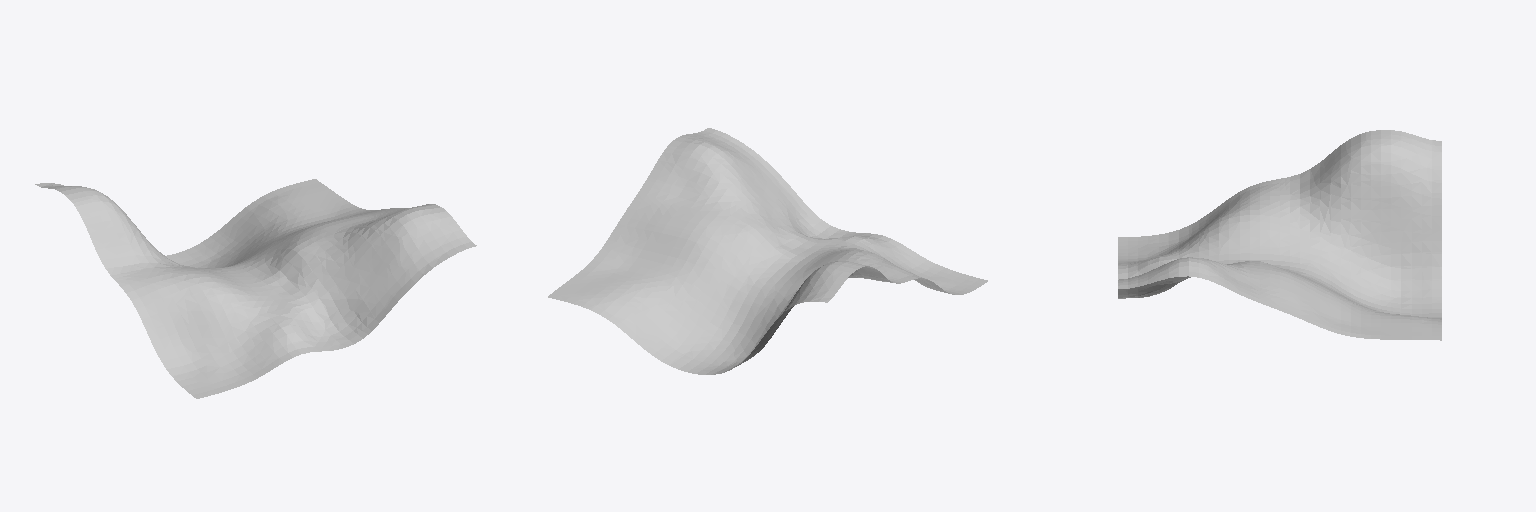
File: Mesh2_Poisson.obj
3 renders of one model, left to right at view 1: azimuth 30°, elevation 25°; view 2: azimuth 150°, elevation 25°; view 3: azimuth 270°, elevation 25°, orthographic.
Size of the model in its own units: 2.77 by 1.09 by 2.77.